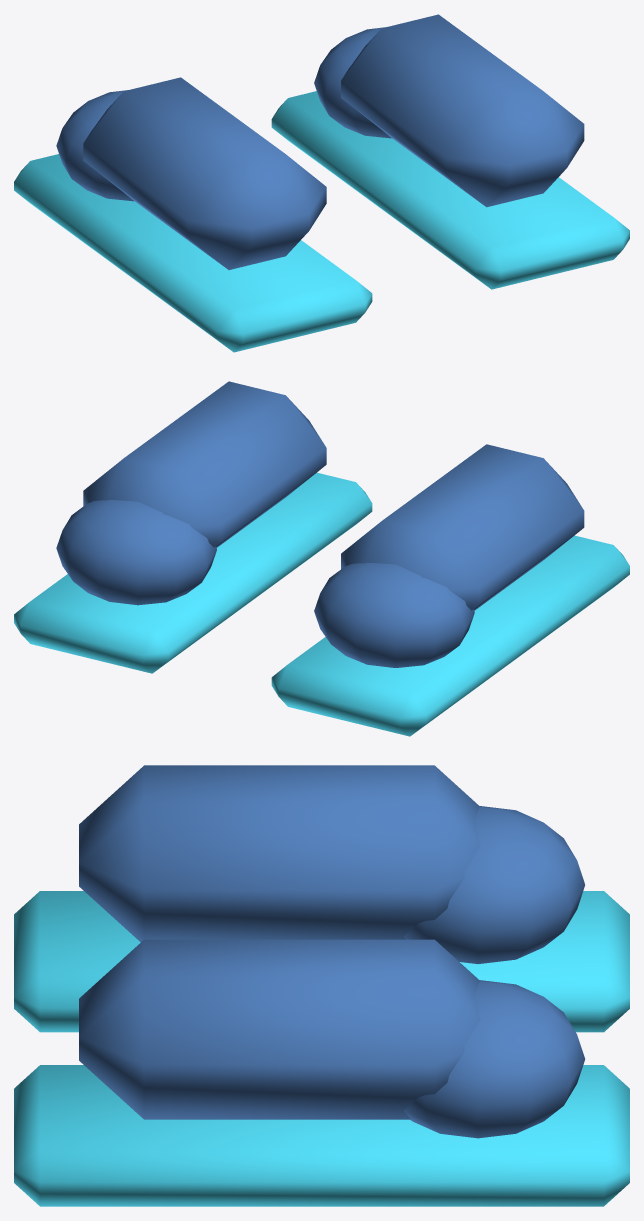
File: shoes_glow.glb
3 renders of one model, top to bottom at view 1: azimuth 30°, elevation 25°; view 2: azimuth 150°, elevation 25°; view 3: azimuth 270°, elevation 25°, orthographic. The views are drawn at different scales.
Visible parts, largest first — view 1: ShinR, ShinL; view 2: ShinL, ShinR; view 3: ShinR, ShinL.
Part boxes in pixels (x1,y1,x2,y2): ShinR: [271, 14, 629, 289]; ShinL: [14, 77, 372, 352]; ShinL: [271, 444, 629, 736]; ShinR: [14, 381, 372, 673]; ShinR: [14, 939, 629, 1206]; ShinL: [14, 765, 629, 1032].
Bounding box in the file's own units: 0.304 × 0.105 × 0.284.
